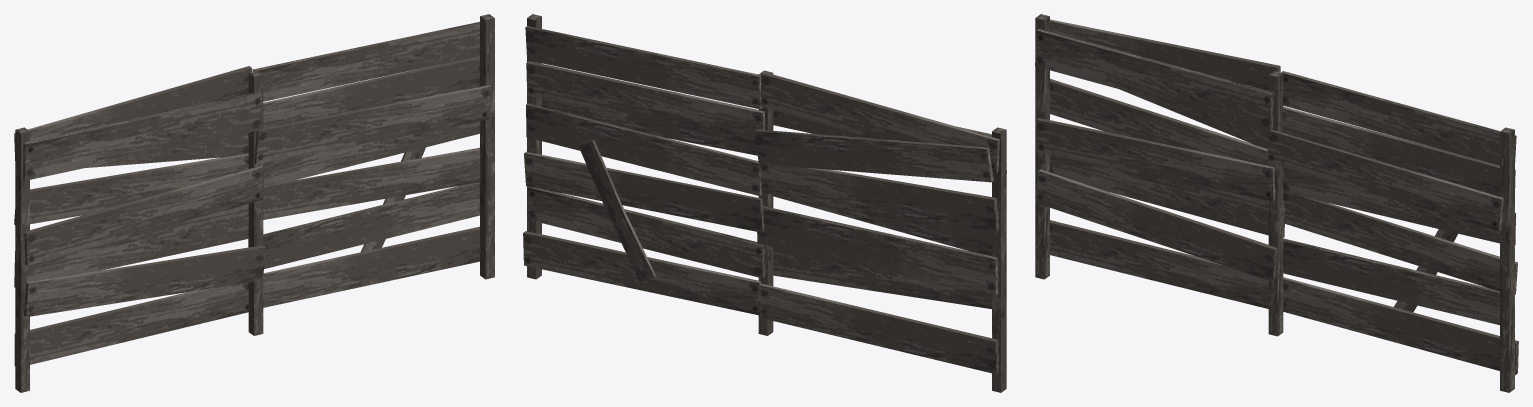
Rendered from Stage_Obj016.fbx.
3 renders of one model, left to right at view 1: azimuth 30°, elevation 25°; view 2: azimuth 150°, elevation 25°; view 3: azimuth 330°, elevation 25°, orthographic.
Visible parts, largest first — view 1: SM_SampleGame_Fence008; view 2: SM_SampleGame_Fence008; view 3: SM_SampleGame_Fence008.
Part boxes in pixels (left/top/right/bottom): SM_SampleGame_Fence008: left=14, top=14, right=494, bottom=392; SM_SampleGame_Fence008: left=523, top=14, right=1006, bottom=392; SM_SampleGame_Fence008: left=1035, top=14, right=1518, bottom=392.
Bounding box in the file's own units: 254 × 134 × 12.14.
Materials: 1 (1 with a texture image).
